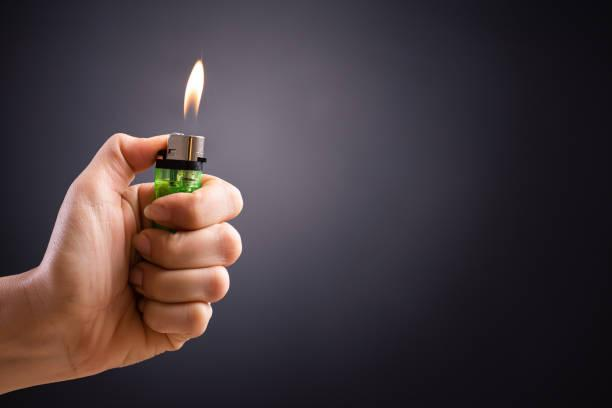Fire: (182, 58, 205, 132)
